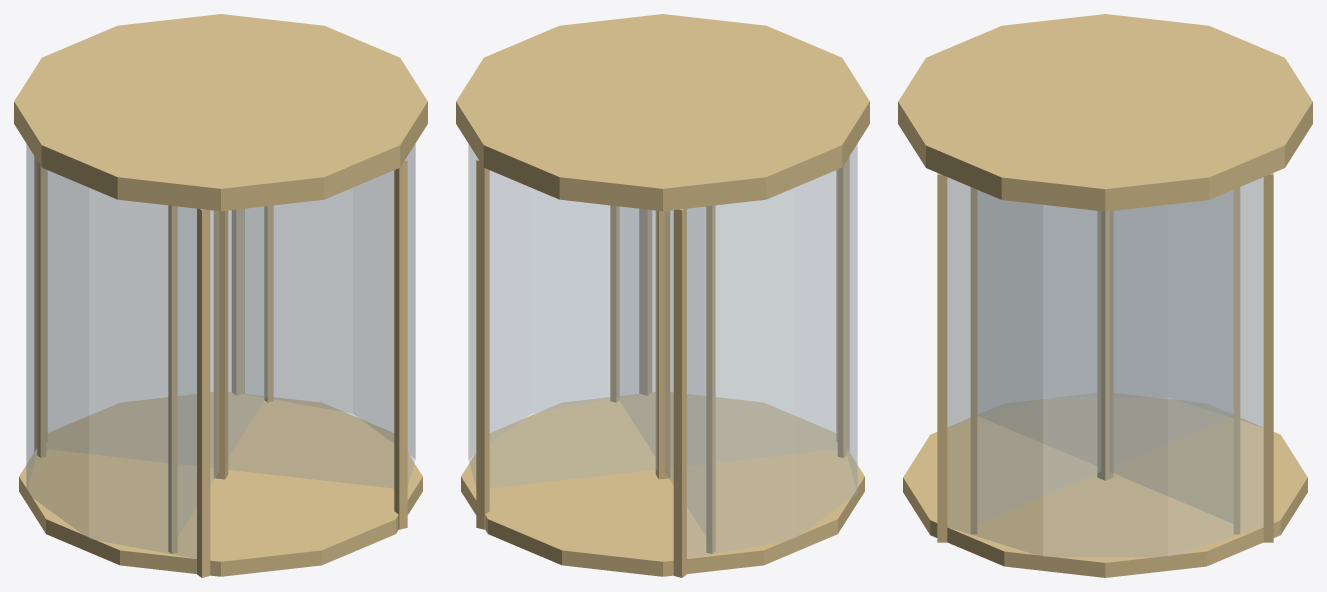
Rendered from door_revolving_2.4_lod1.glb.
3 renders of one model, left to right at view 1: azimuth 30°, elevation 25°; view 2: azimuth 150°, elevation 25°; view 3: azimuth 270°, elevation 25°, orthographic.
Parts seen in each view (by area): view 1: door_revolving; view 2: door_revolving; view 3: door_revolving.
Part boxes in pixels (x1,y1,x2,y2): door_revolving: (14,14,427,577); door_revolving: (456,14,869,577); door_revolving: (898,14,1312,577).
Bounding box in the file's own units: 2.5 × 2.6 × 2.5.
